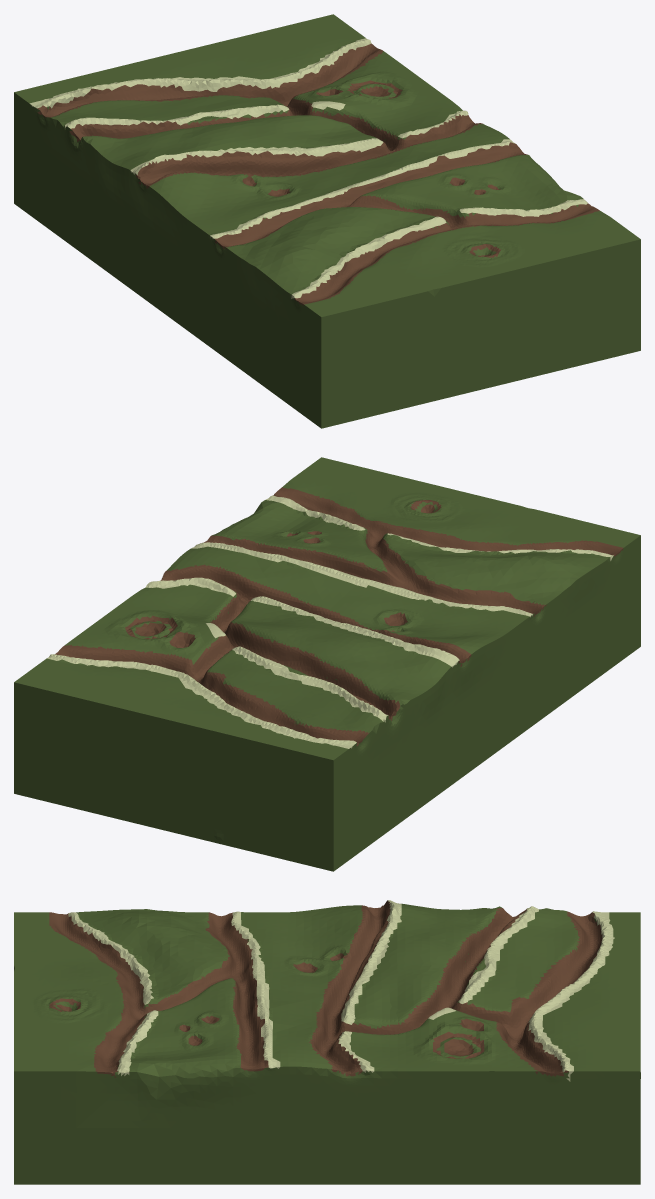
Rendered from Spec map 0-1.fbx.
3 renders of one model, top to bottom at view 1: azimuth 30°, elevation 25°; view 2: azimuth 150°, elevation 25°; view 3: azimuth 270°, elevation 25°, orthographic.
Visible parts, largest first — view 1: Cube; view 2: Cube; view 3: Cube.
Part boxes in pixels (x1,y1,x2,y2): Cube: (14,14,640,428); Cube: (14,457,640,871); Cube: (14,900,640,1184).
Bounding box in the file's own units: 2424 × 934 × 4002.
